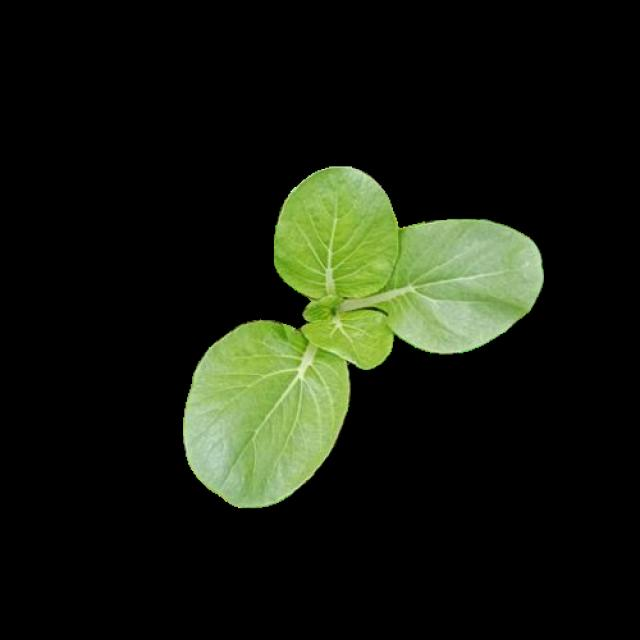healthy: (188, 169, 543, 503)
not-mature: (188, 169, 543, 503)
